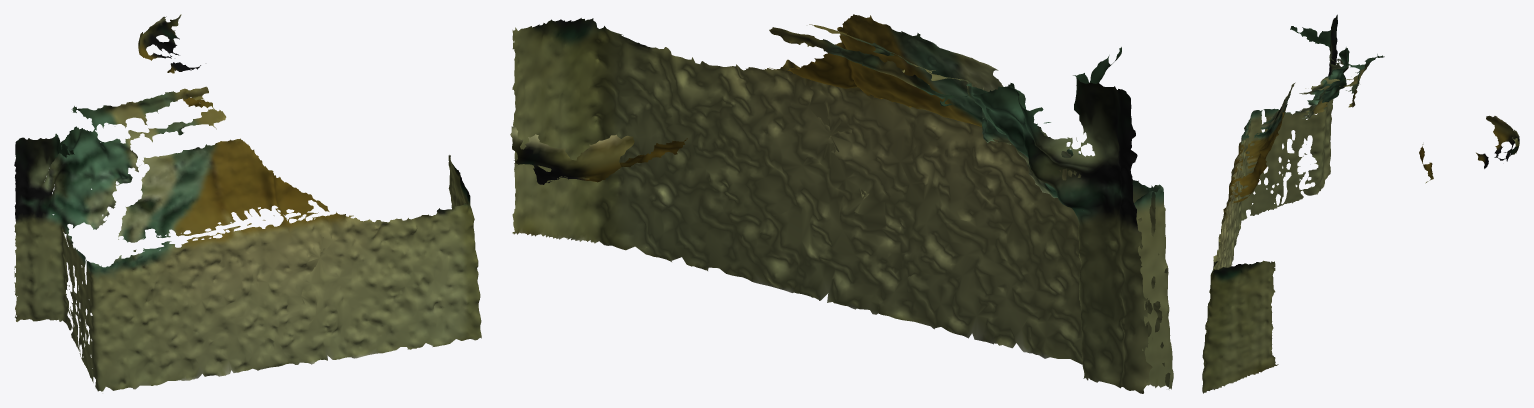
File: color_model_f010_20260209_014333.obj
3 renders of one model, left to right at view 1: azimuth 30°, elevation 25°; view 2: azimuth 150°, elevation 25°; view 3: azimuth 270°, elevation 25°, orthographic. The views are drawn at different scales.
Bounding box in the file's own units: 1.98 × 1.12 × 1.51.
